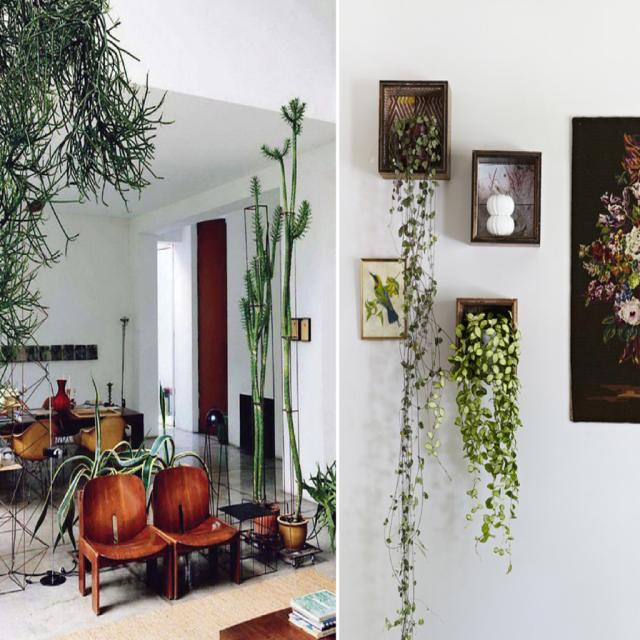Chair: (70, 489, 181, 618), (152, 465, 240, 597), (12, 418, 58, 502), (75, 413, 126, 476), (0, 394, 30, 450)
